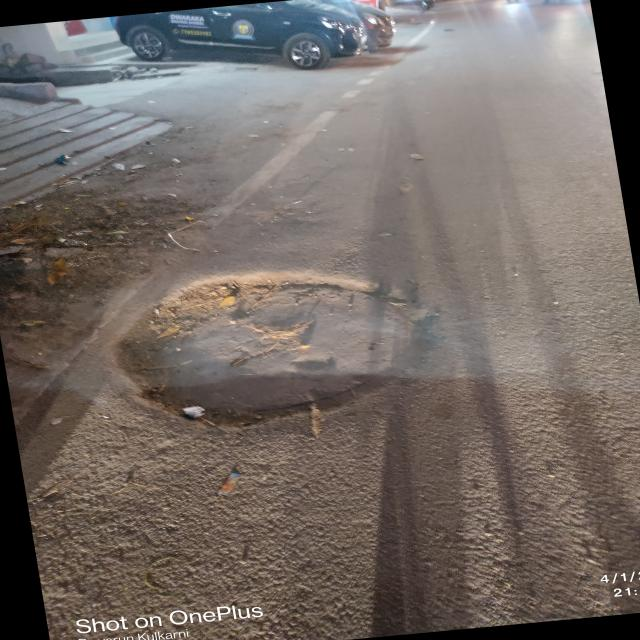potholes: (108, 267, 442, 428)
